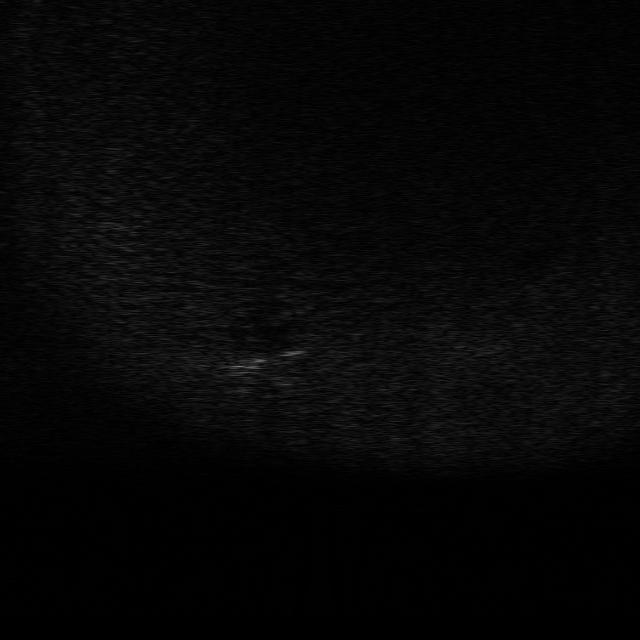plane: (212, 342, 302, 381)
